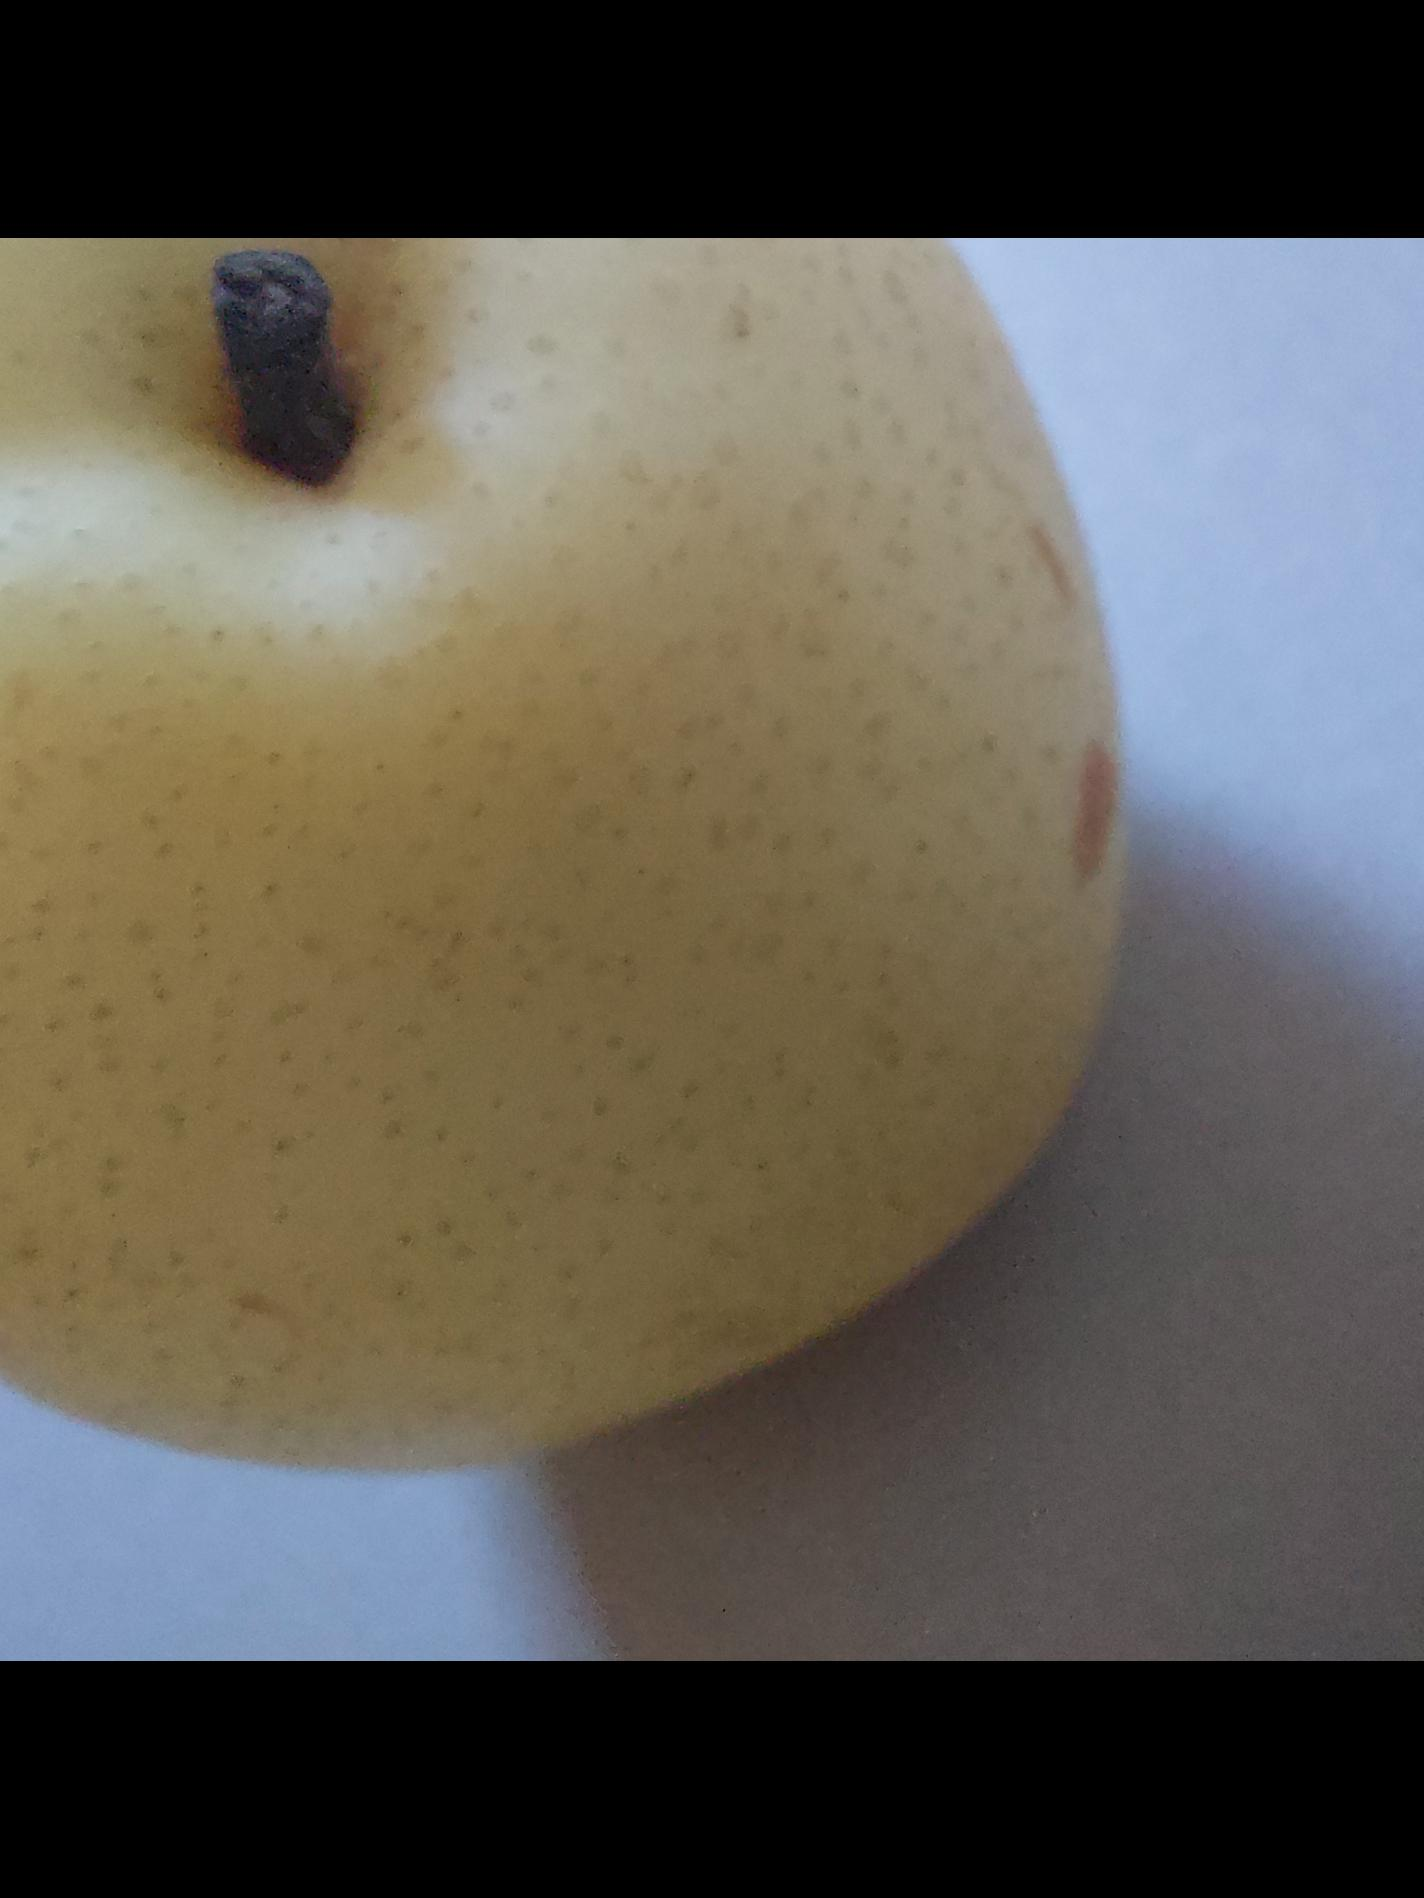Good Pear: (0, 236, 1180, 1500)
